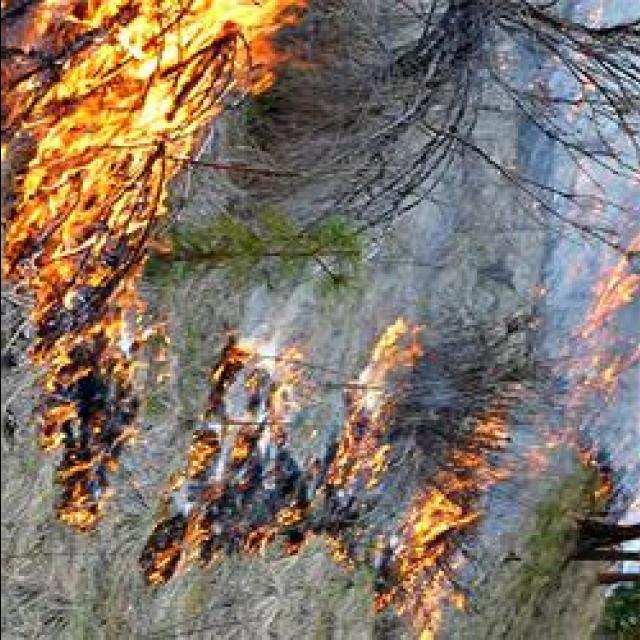fire: (397, 492, 465, 598), (184, 1, 280, 41), (135, 98, 171, 126)
